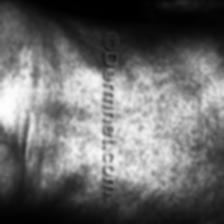Toxin: (0, 37, 96, 191), (124, 66, 224, 194)
